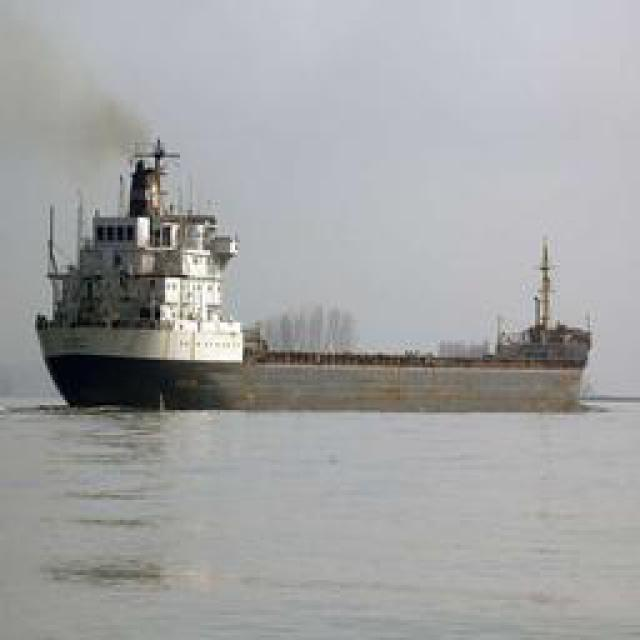Ship: (39, 127, 600, 422)
